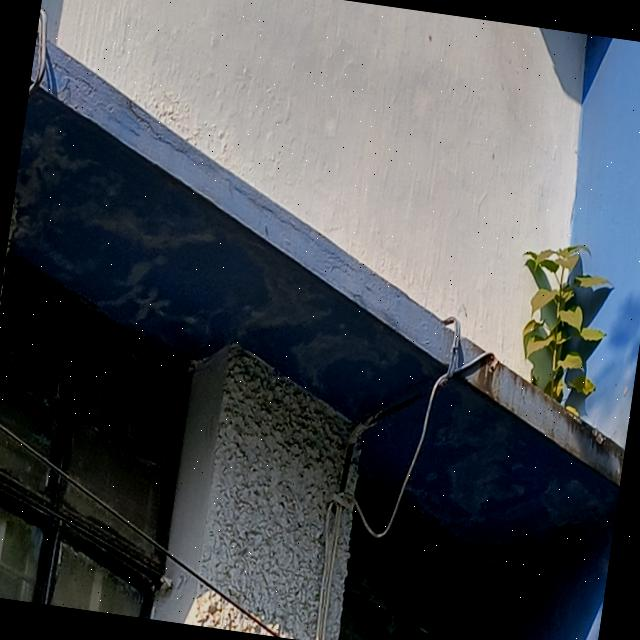crack: (113, 100, 363, 277), (53, 60, 98, 95)
stain_mould: (461, 342, 624, 485)
